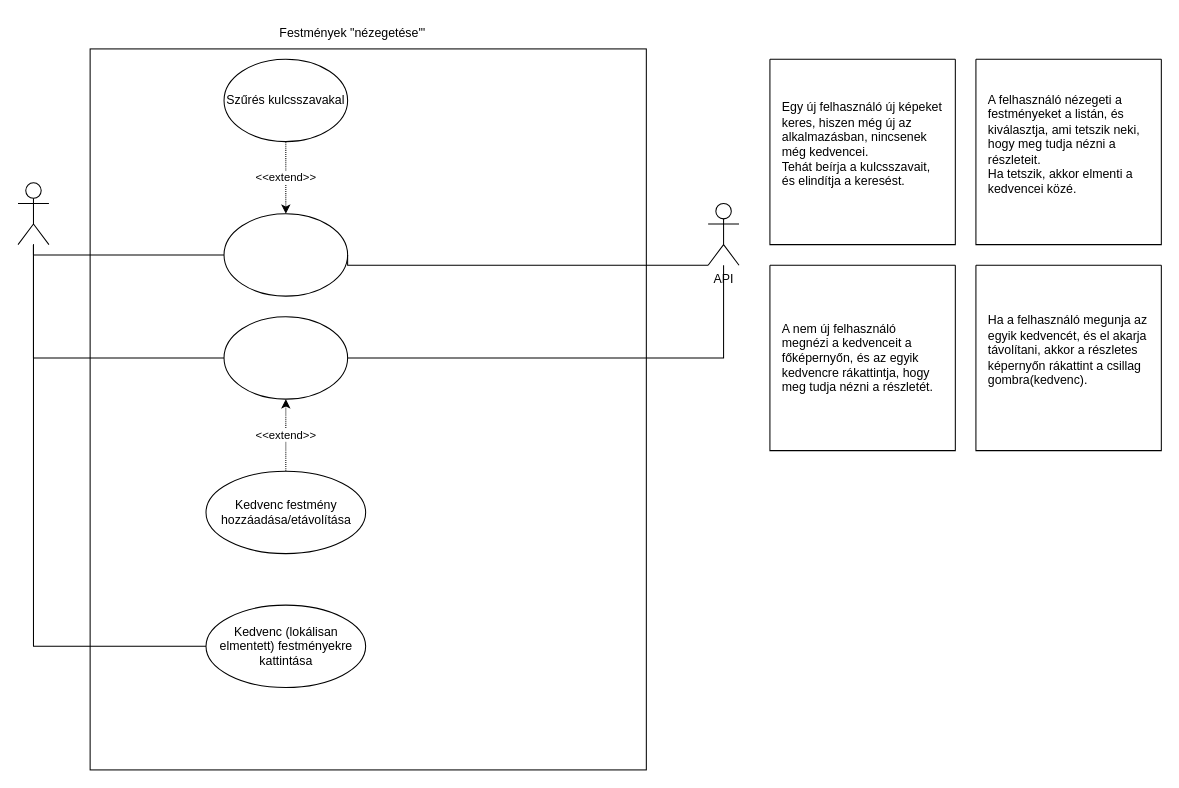
Some shapes in this 1179 by 788 pixel diagram are drawn without their labels. Each missing label, with the centre of its shape:
"Festmény részletezése tekintése" belongs at [285,357].
"Festmények keresése" belongs at [285,254].
"User" belongs at [33,213].
